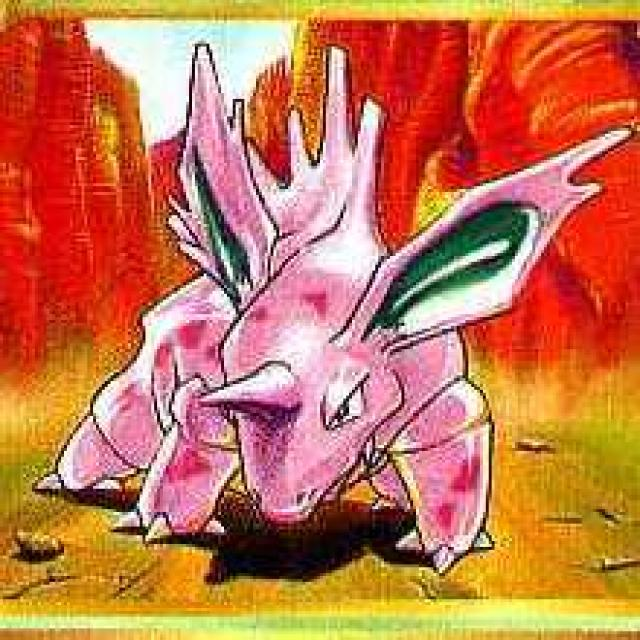Nidorino: (86, 113, 578, 556)
